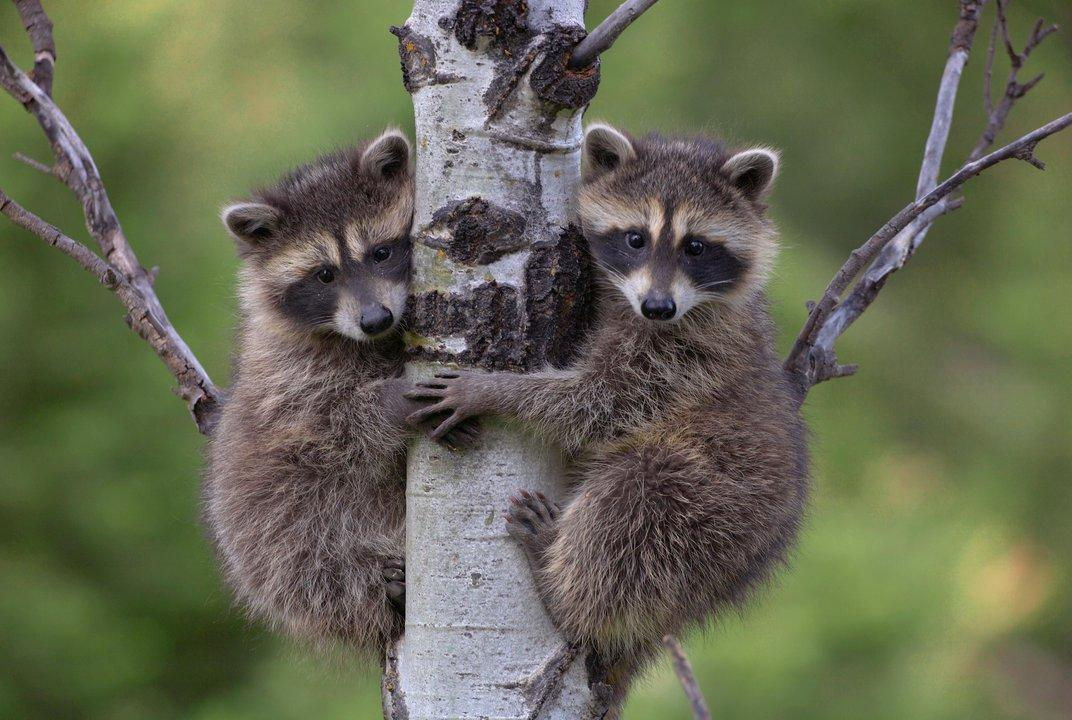raccoon: (201, 127, 451, 654)
